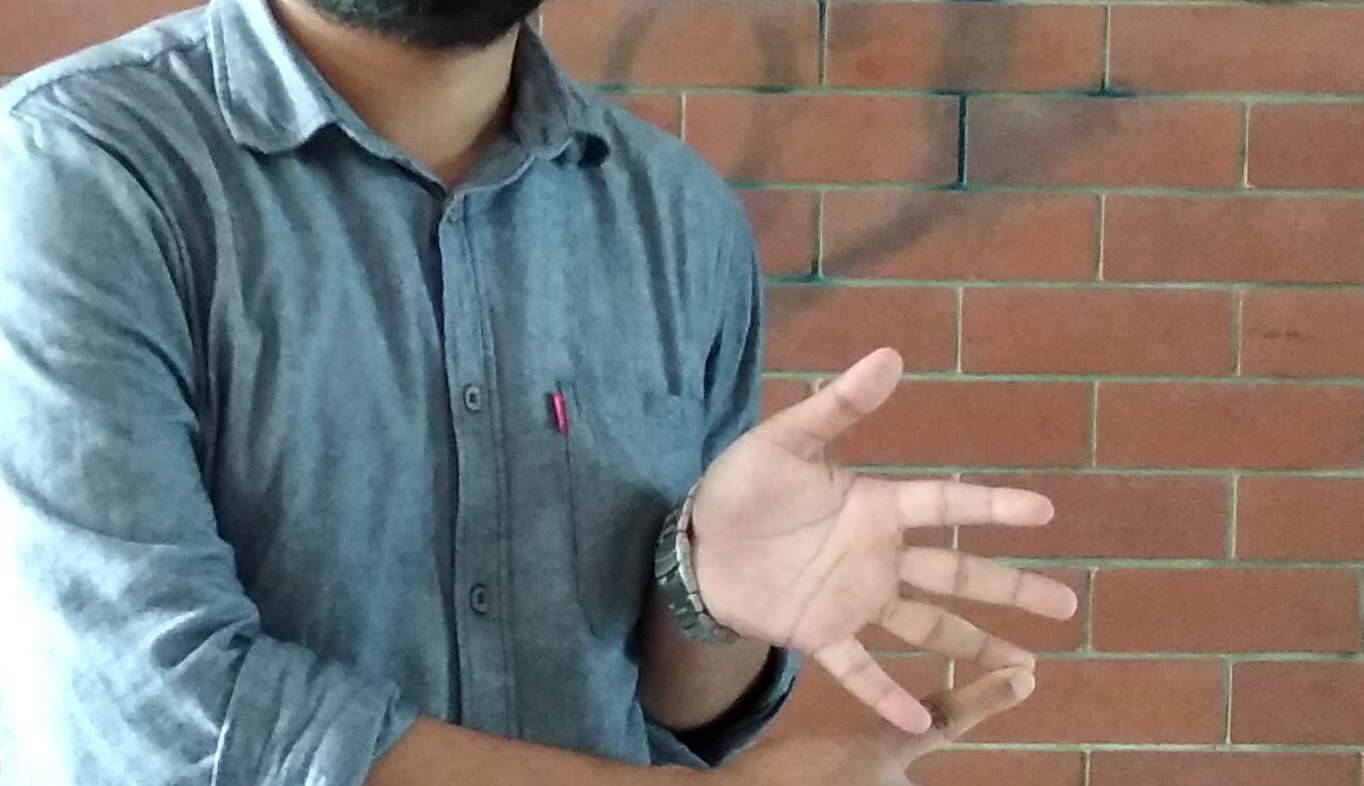e: (697, 373, 1118, 786)
